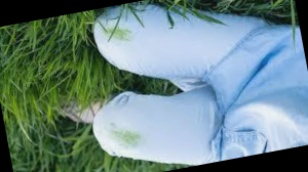earth: (112, 128, 143, 147), (107, 25, 130, 43)
